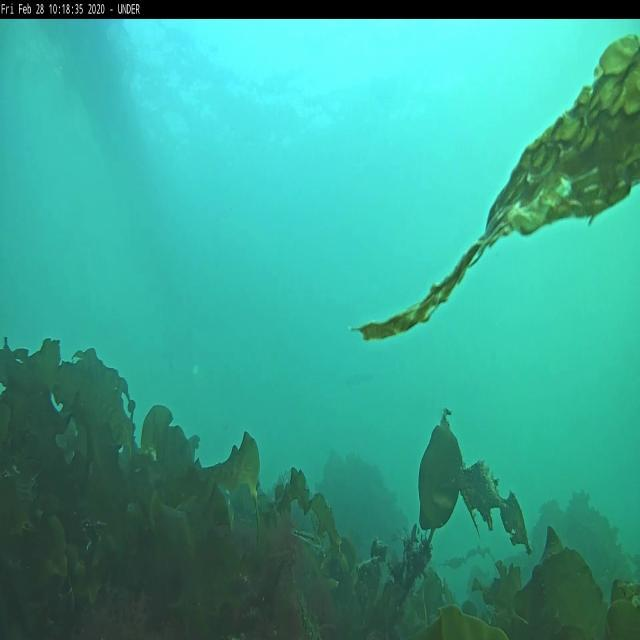fish: (292, 526, 322, 548)
